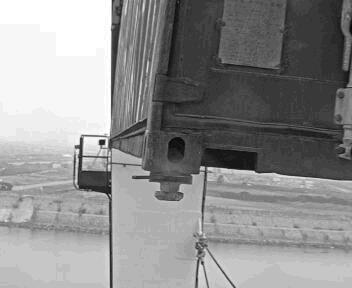twist_lock_1: (144, 166, 200, 205)
